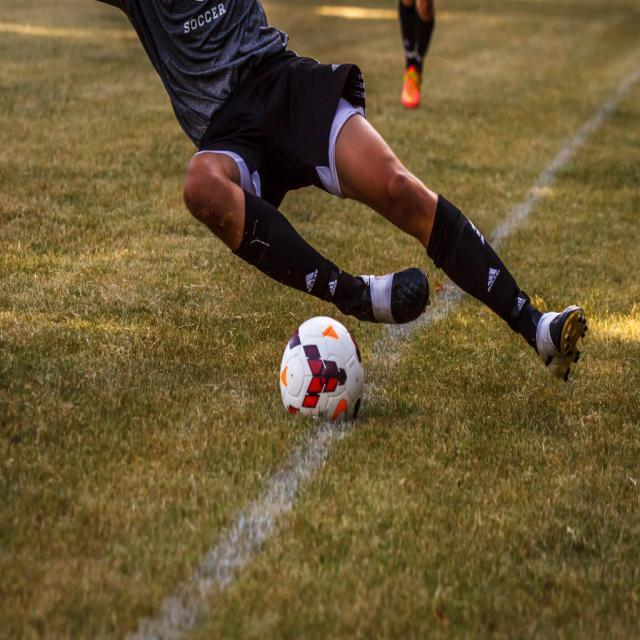football: (266, 313, 386, 433)
